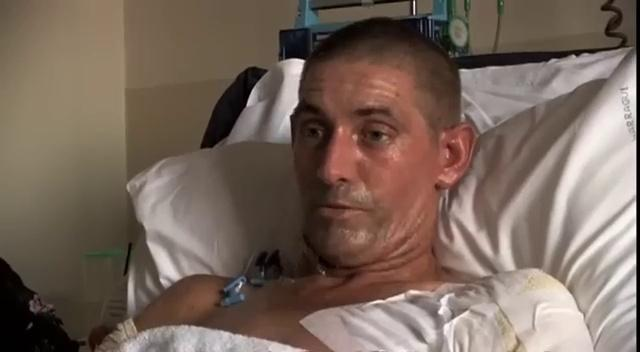patient: (89, 16, 598, 351)
